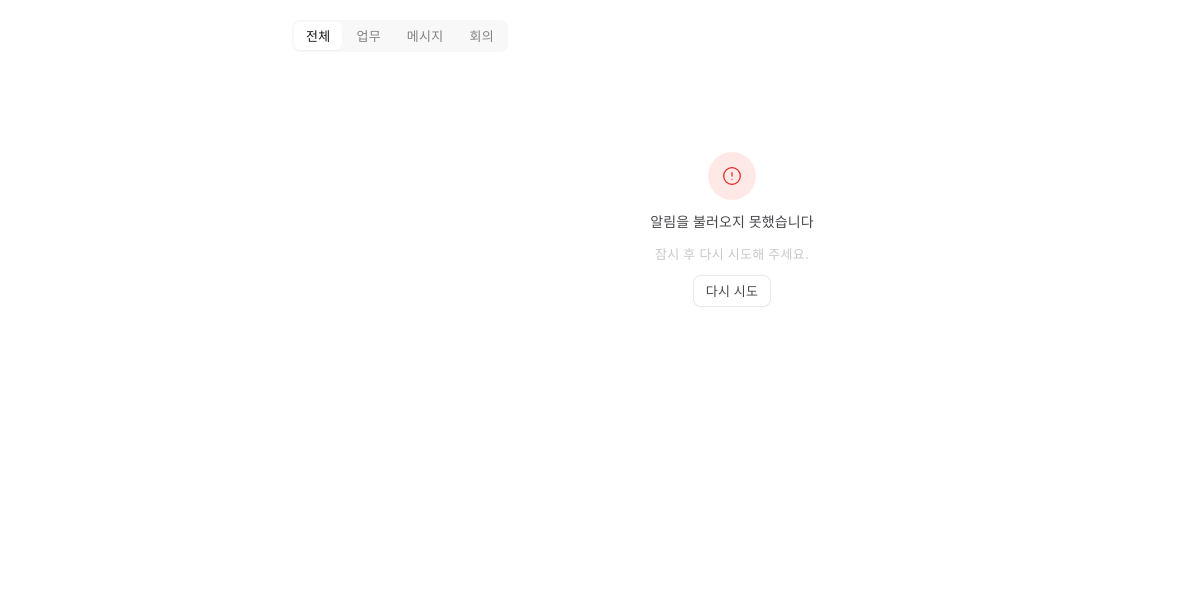
Test: 알림 화면 — 상태 넷 › 오류 — 「알림을 불러오지 못했습니다」 + [다시 시도] → 다시 읽는다
Expected: the text "알림을 불러오지 못했습니다" is shown, [650,212,814,232]
Expected: the button "모두 읽음" is not shown
What coordinates should you click on to do the following:
click the button "다시 시도"
I would click on:
 (732, 290)
Its box is [693,274,771,306].
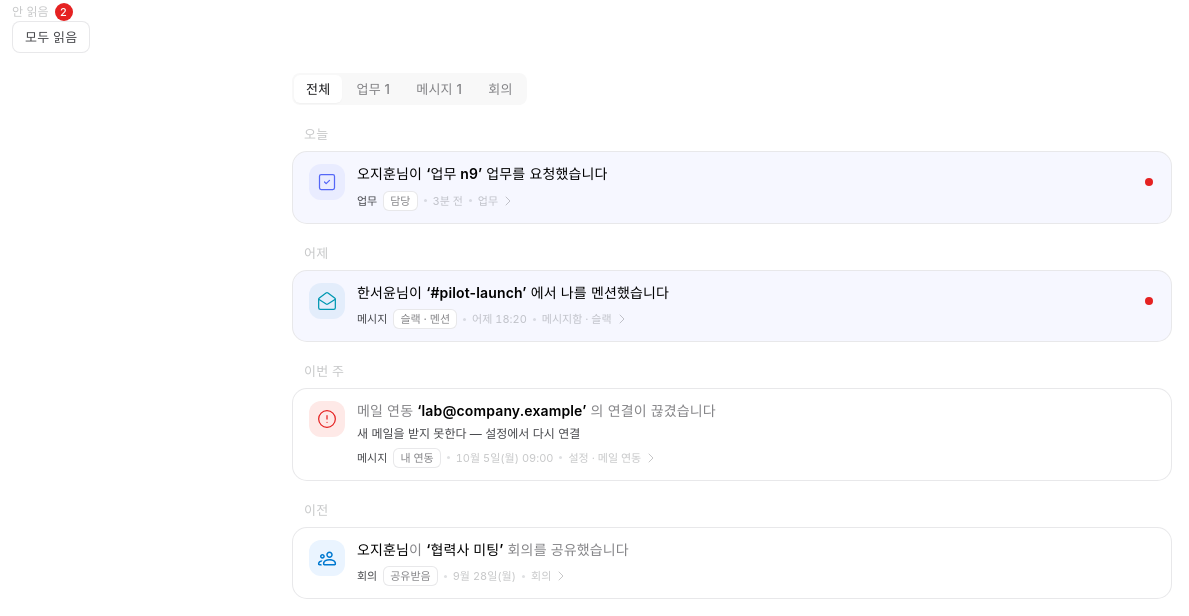
Now the text "업무 n9" is shown, box [430,165,478,182]
